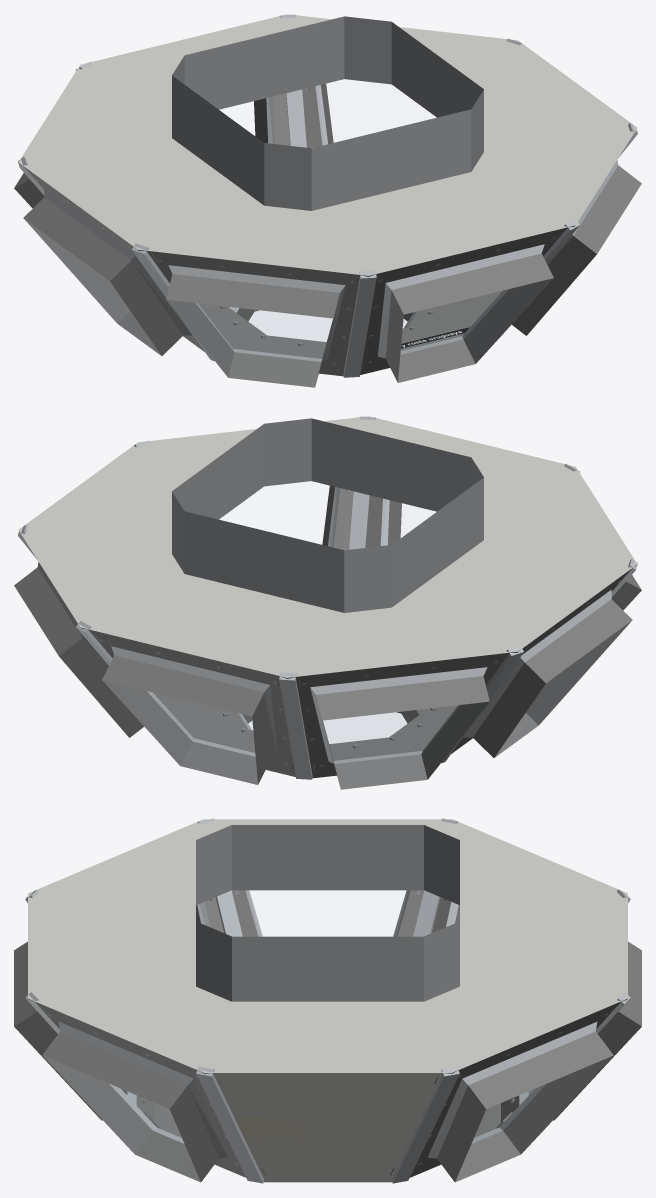
The model's file is Layout_Cupula_Faro.fbx.
3 views of the same model, one above another, from view 1: azimuth 30°, elevation 25°; view 2: azimuth 150°, elevation 25°; view 3: azimuth 270°, elevation 25° (orthographic). The views are drawn at different scales.
Visible parts, largest first — view 1: Casco_Cupula, Vidrios_Cupula; view 2: Casco_Cupula, Vidrios_Cupula; view 3: Casco_Cupula, Toalla.
Boxes of the visible parts, <box> form: Casco_Cupula: <box>14,14,641,387</box>; Vidrios_Cupula: <box>248,310,407,341</box>; Casco_Cupula: <box>14,416,641,789</box>; Vidrios_Cupula: <box>248,712,407,743</box>; Casco_Cupula: <box>14,818,641,1183</box>; Toalla: <box>235,1118,305,1141</box>.
Size of the model in its own units: 2.57 by 1.21 by 2.62.
